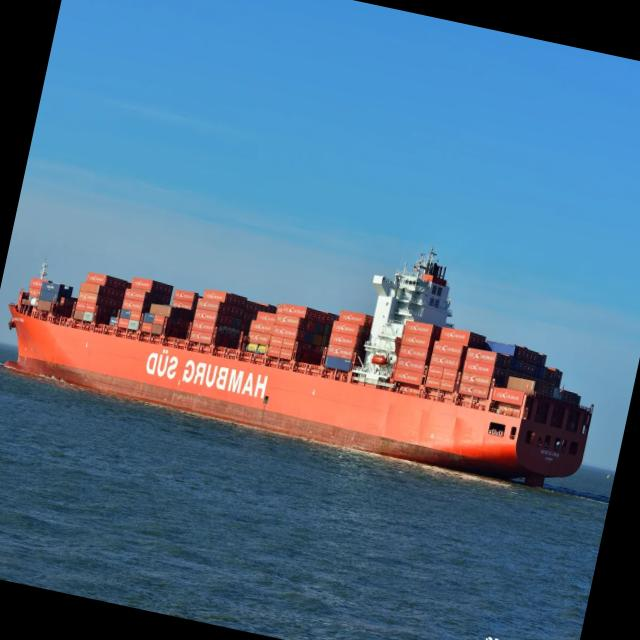Cargo: (9, 253, 591, 484)
